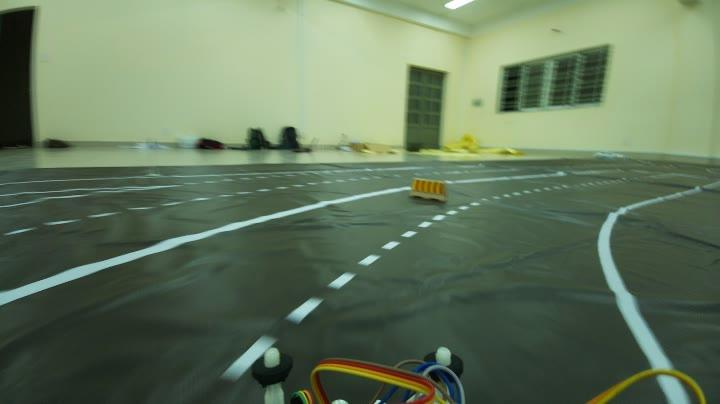roadblock: (407, 170, 450, 207)
